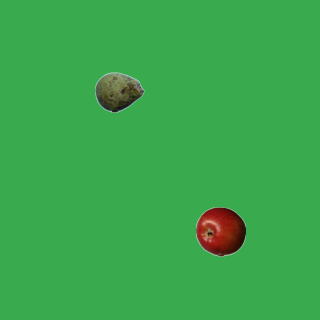Apple Braeburn: (195, 206, 245, 256)
Pear Stone: (94, 67, 144, 117)
